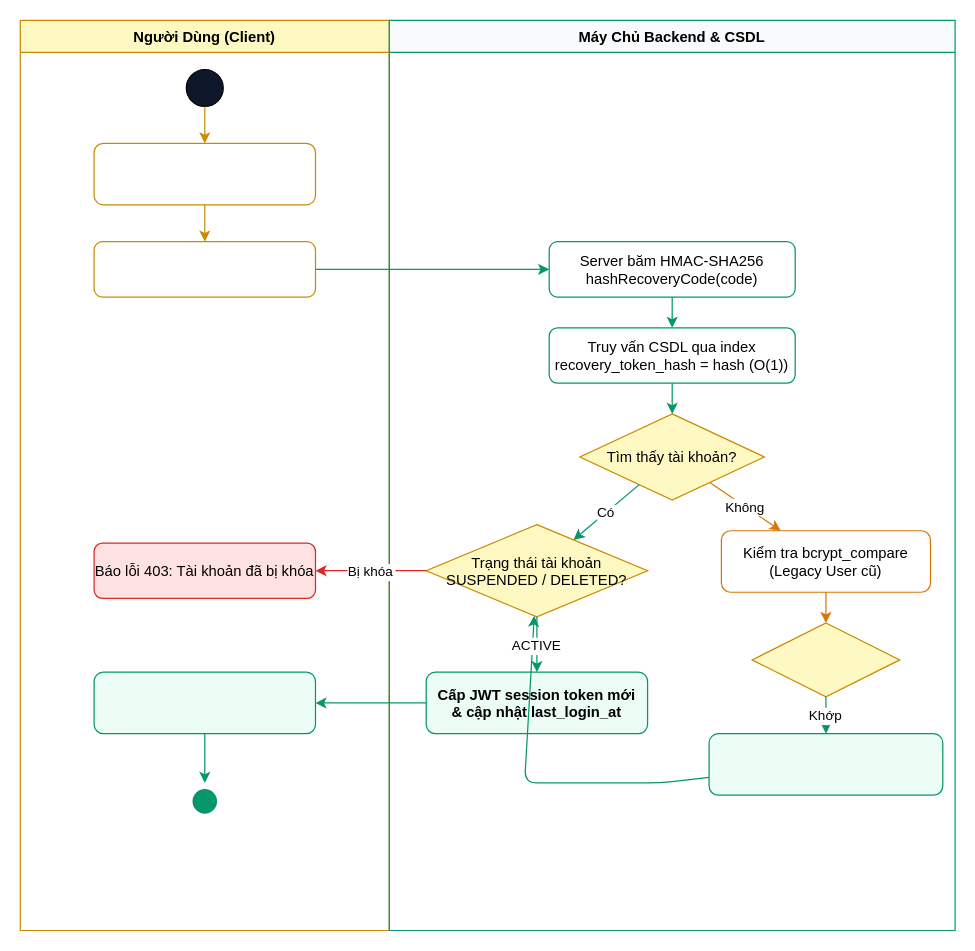
Image size: 975x951. Some labels were removed from this diagram. The shapes that lost their labels are listed below. From the top down, each one's box as (x1, y1, x2, y2) in pixels, then its label:
(93, 142, 315, 205): Mở modal 'Khôi phục tài khoản' & nhập mã 16 ký tự
(93, 240, 315, 297): Gửi POST /api/auth/recover { recoveryCode }
(751, 622, 900, 697): Khớp bcrypt?
(93, 671, 315, 734): Đăng nhập thành công, khuyến nghị cấp lại mã mới
(708, 732, 943, 795): Auto-migrate sang HMAC hash & xóa recovery_code_hash cũ
